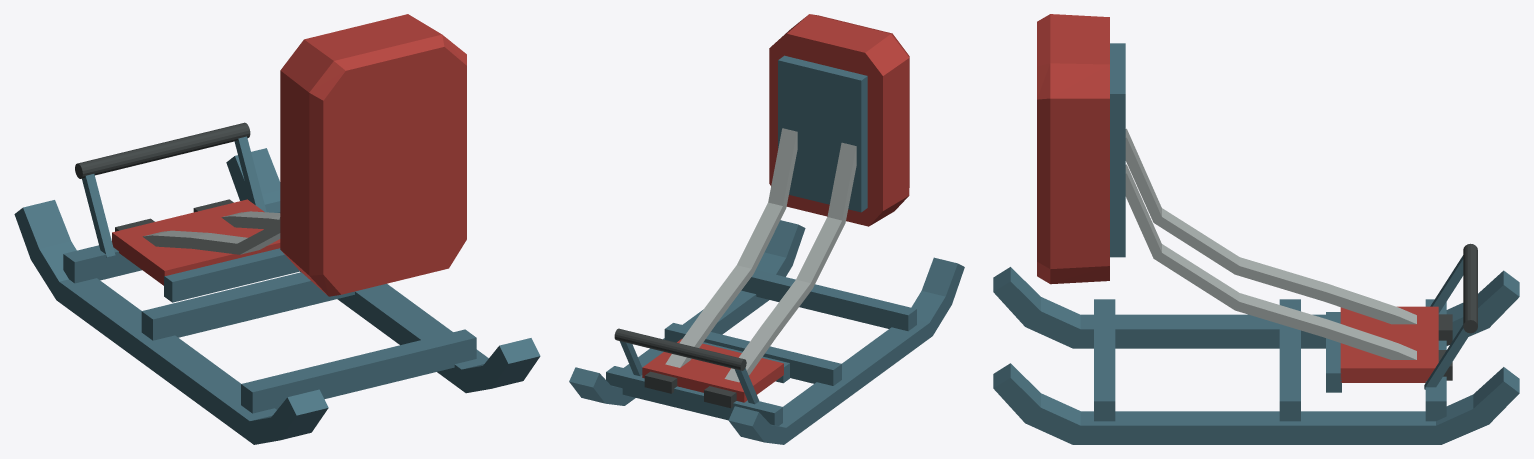
The picture shows the model from 3 angles, left to right: view 1: azimuth 30°, elevation 25°; view 2: azimuth 150°, elevation 25°; view 3: azimuth 270°, elevation 25°; orthographic projection. The views are drawn at different scales.
Visible parts, largest first — view 1: WholeTallChamferedBlockingPad, WholeGroundFootUpturnedRunner_0, WholeGroundFootUpturnedRunner_1, WholeChassisCrossmember_0, WholeChassisCrossmember_1, WholeRearStandingPlatform, WholeRearPlatformFrontTie, WholeRearTransverseGrip, WholeBentPadSupportPlate_0, WholeChassisCrossmember_2, WholeRearGripRoot_-1, WholeRearGripRoot_1 (+1 smaller); view 2: WholeTallChamferedBlockingPad, WholePadRearBacking, WholeGroundFootUpturnedRunner_0, WholeBentPadSupportPlate_1, WholeBentPadSupportPlate_0, WholeGroundFootUpturnedRunner_1, WholeChassisCrossmember_0, WholeRearStandingPlatform, WholeChassisCrossmember_2, WholeChassisCrossmember_1, WholeRearTransverseGrip, WholeLeafRootClamp_1 (+3 smaller); view 3: WholeTallChamferedBlockingPad, WholeGroundFootUpturnedRunner_1, WholeGroundFootUpturnedRunner_0, WholeBentPadSupportPlate_0, WholeBentPadSupportPlate_1, WholeRearStandingPlatform, WholePadRearBacking, WholeChassisCrossmember_0, WholeChassisCrossmember_1, WholeRearTransverseGrip, WholeChassisCrossmember_2, WholeRearPlatformFrontTie (+2 smaller).
Boxes of the visible parts, bbox=[...] form: WholeTallChamferedBlockingPad: bbox=[280, 14, 466, 296]; WholeGroundFootUpturnedRunner_0: bbox=[14, 200, 328, 444]; WholeGroundFootUpturnedRunner_1: bbox=[226, 148, 540, 393]; WholeChassisCrossmember_0: bbox=[241, 329, 476, 413]; WholeChassisCrossmember_1: bbox=[141, 272, 354, 340]; WholeRearStandingPlatform: bbox=[112, 199, 280, 285]; WholeRearPlatformFrontTie: bbox=[164, 248, 300, 302]; WholeRearTransverseGrip: bbox=[75, 122, 250, 178]; WholeBentPadSupportPlate_0: bbox=[142, 217, 280, 254]; WholeChassisCrossmember_2: bbox=[63, 201, 280, 283]; WholeRearGripRoot_-1: bbox=[82, 174, 115, 257]; WholeRearGripRoot_1: bbox=[234, 136, 266, 212]; WholeTallChamferedBlockingPad: bbox=[769, 14, 909, 226]; WholePadRearBacking: bbox=[778, 55, 867, 212]; WholeGroundFootUpturnedRunner_0: bbox=[728, 257, 964, 444]; WholeBentPadSupportPlate_1: bbox=[665, 128, 797, 367]; WholeBentPadSupportPlate_0: bbox=[724, 142, 856, 382]; WholeGroundFootUpturnedRunner_1: bbox=[569, 220, 805, 405]; WholeChassisCrossmember_0: bbox=[741, 270, 916, 331]; WholeRearStandingPlatform: bbox=[642, 338, 783, 402]; WholeChassisCrossmember_2: bbox=[606, 366, 782, 425]; WholeChassisCrossmember_1: bbox=[664, 323, 841, 385]; WholeRearTransverseGrip: bbox=[614, 328, 746, 370]; WholeLeafRootClamp_1: bbox=[644, 371, 677, 393]; WholeTallChamferedBlockingPad: bbox=[1037, 14, 1109, 284]; WholeGroundFootUpturnedRunner_1: bbox=[993, 363, 1519, 444]; WholeGroundFootUpturnedRunner_0: bbox=[993, 267, 1519, 348]; WholeBentPadSupportPlate_0: bbox=[1125, 128, 1416, 324]; WholeBentPadSupportPlate_1: bbox=[1125, 164, 1416, 359]; WholeRearStandingPlatform: bbox=[1340, 306, 1438, 382]; WholePadRearBacking: bbox=[1110, 43, 1125, 257]; WholeChassisCrossmember_0: bbox=[1094, 299, 1115, 421]; WholeChassisCrossmember_1: bbox=[1279, 299, 1300, 421]; WholeRearTransverseGrip: bbox=[1463, 243, 1477, 333]; WholeChassisCrossmember_2: bbox=[1425, 299, 1446, 421]; WholeRearPlatformFrontTie: bbox=[1326, 312, 1341, 392].
Bounding box in the file's own units: 0.99 × 1.46 × 1.99.
